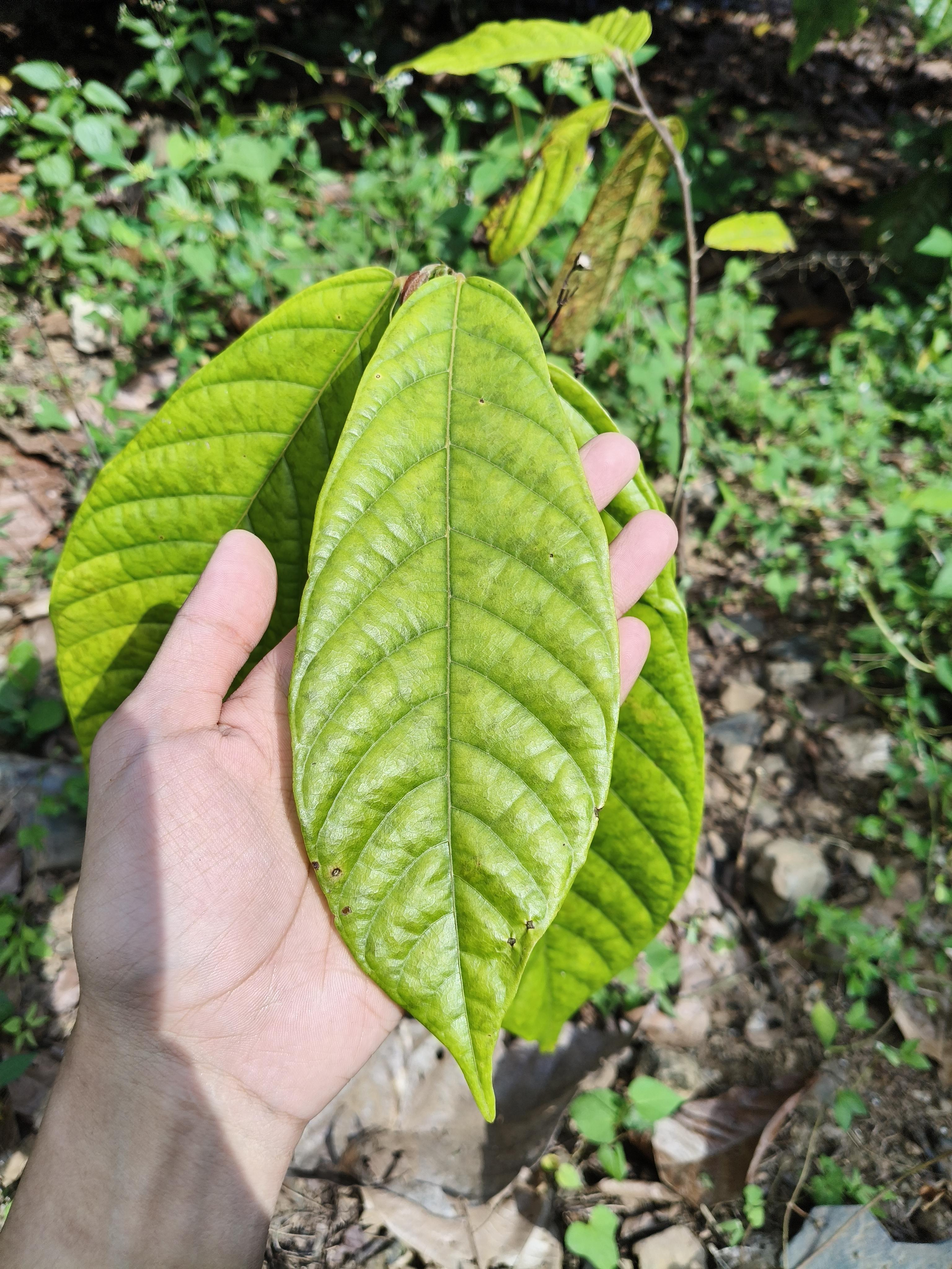deficiencia_potasio: (277, 252, 640, 1141)
